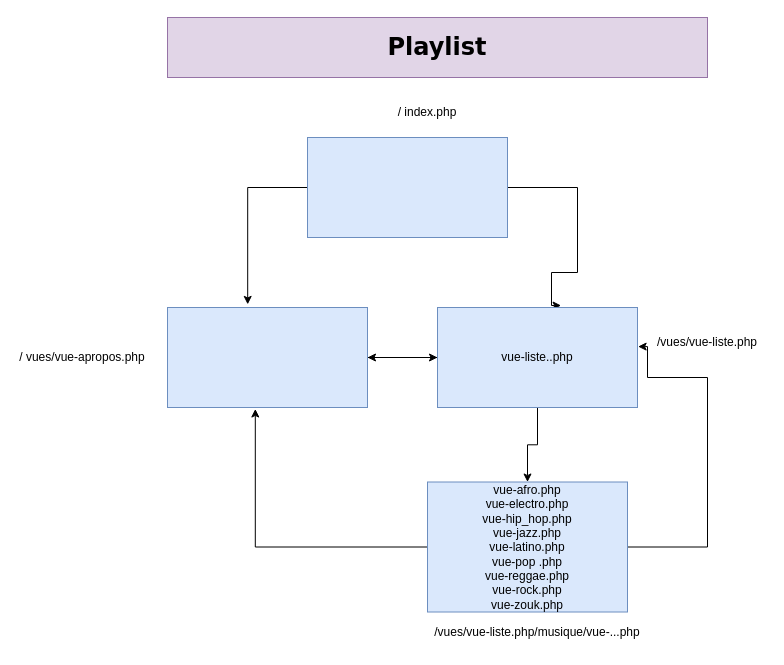
Image size: 784x665. Some labels were removed from this diagram. Here are the shapes that lost their labels. From the top down, the centre of each, then its label:
At (407,187): "index.php".
At (267,357): "vue-apropos.php".
